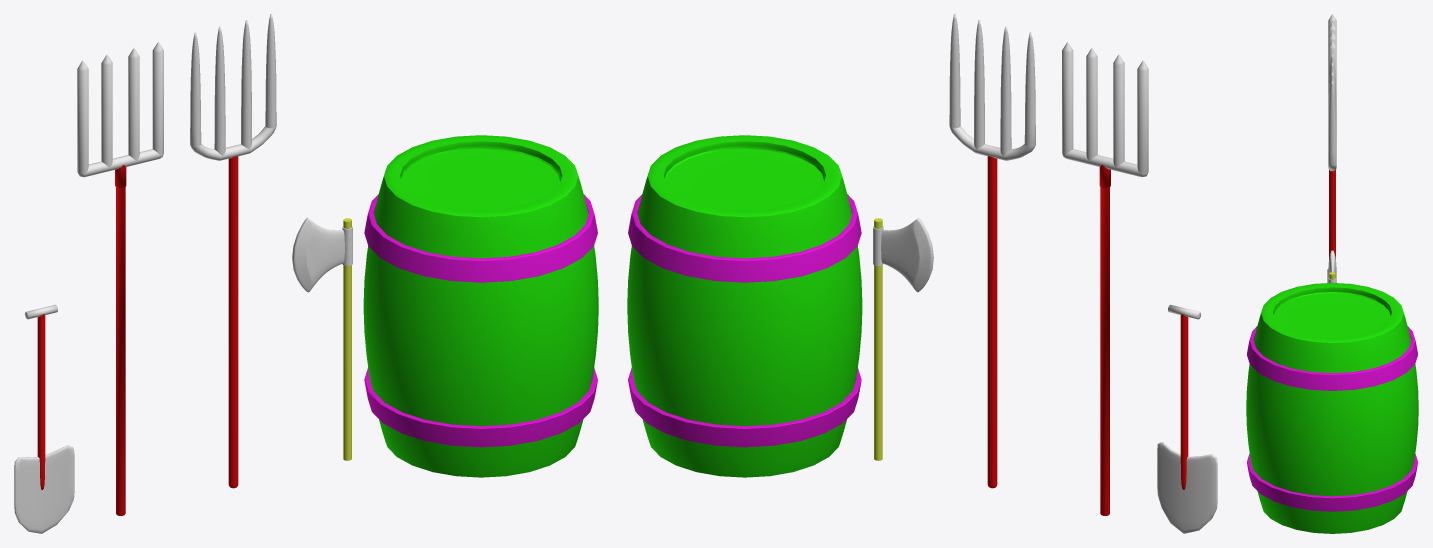
File: Herramientas y armas.fbx
3 renders of one model, left to right at view 1: azimuth 30°, elevation 25°; view 2: azimuth 150°, elevation 25°; view 3: azimuth 270°, elevation 25°, orthographic. The views are drawn at different scales.
Visible parts, largest first — view 1: Barril, HorcaHerramienta, HorcaHerramienta2, Pala, Hacha; view 2: Barril, HorcaHerramienta, HorcaHerramienta2, Pala, Hacha; view 3: Barril, HorcaHerramienta2, HorcaHerramienta, Hacha.
Part boxes in pixels (bbox=[...]): Barril: bbox=[363, 135, 598, 477]; HorcaHerramienta: bbox=[77, 42, 163, 515]; HorcaHerramienta2: bbox=[190, 14, 276, 488]; Pala: bbox=[14, 304, 74, 533]; Hacha: bbox=[292, 218, 352, 460]; Barril: bbox=[627, 135, 862, 477]; HorcaHerramienta: bbox=[1062, 42, 1148, 515]; HorcaHerramienta2: bbox=[949, 14, 1035, 488]; Pala: bbox=[1157, 304, 1217, 533]; Hacha: bbox=[873, 218, 933, 460]; Barril: bbox=[1246, 283, 1418, 533]; HorcaHerramienta2: bbox=[1328, 54, 1336, 259]; HorcaHerramienta: bbox=[1328, 14, 1336, 121]; Hacha: bbox=[1328, 250, 1336, 282].
Size of the model in its own units: 175 by 139 by 62.51.
